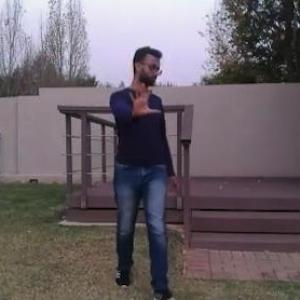follow_hand: (124, 76, 163, 120)
